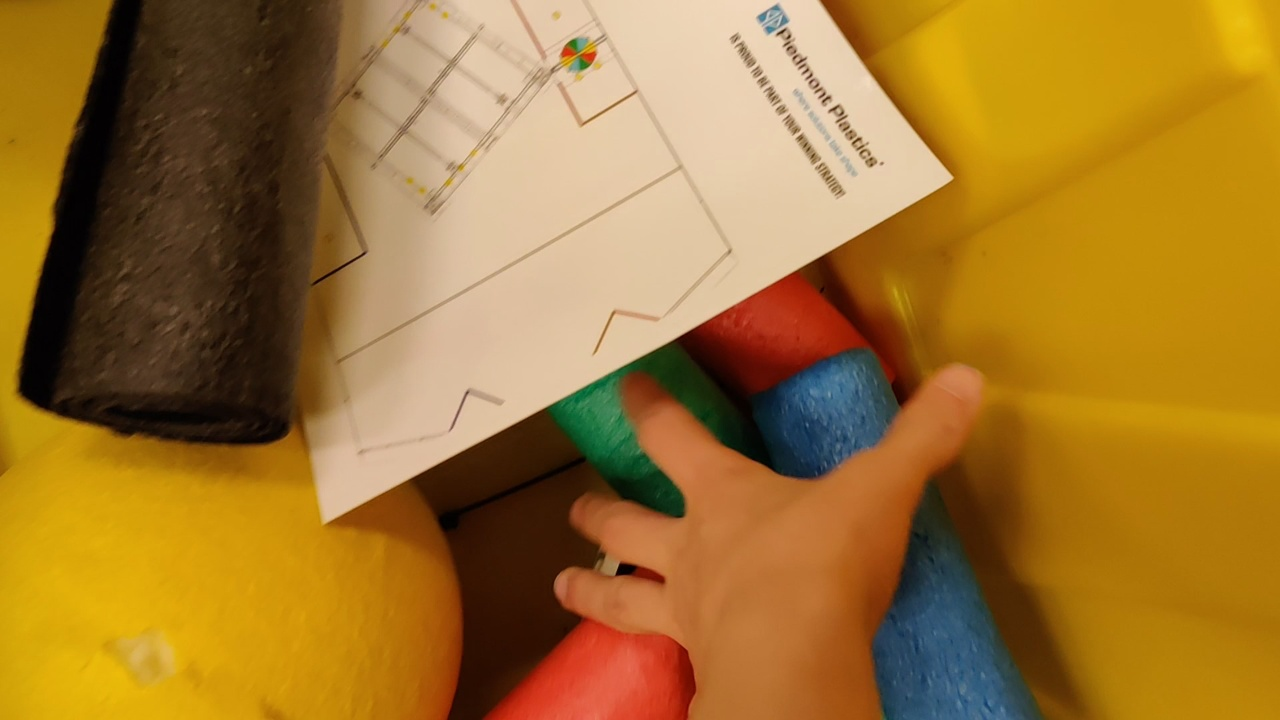Ball: (1, 426, 466, 719)
